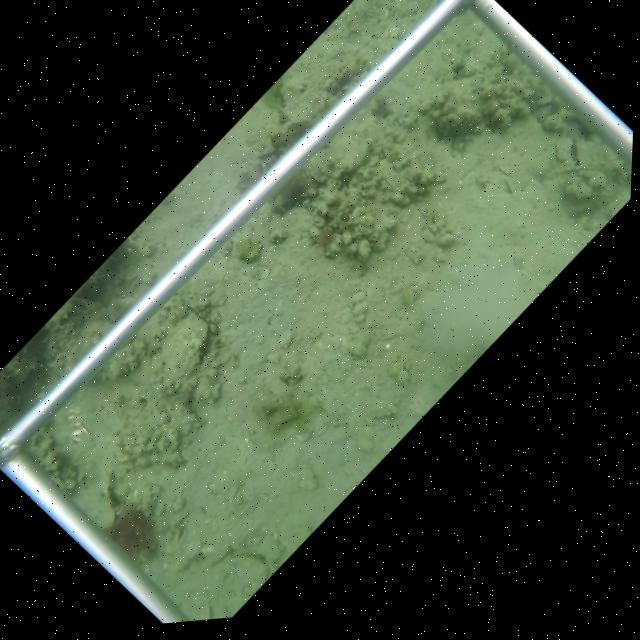Oyster-Indeterminate: (155, 305, 209, 392), (229, 553, 268, 587)
